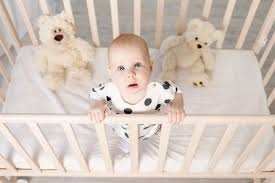baby: (90, 34, 183, 122)
crib: (0, 112, 274, 181)
